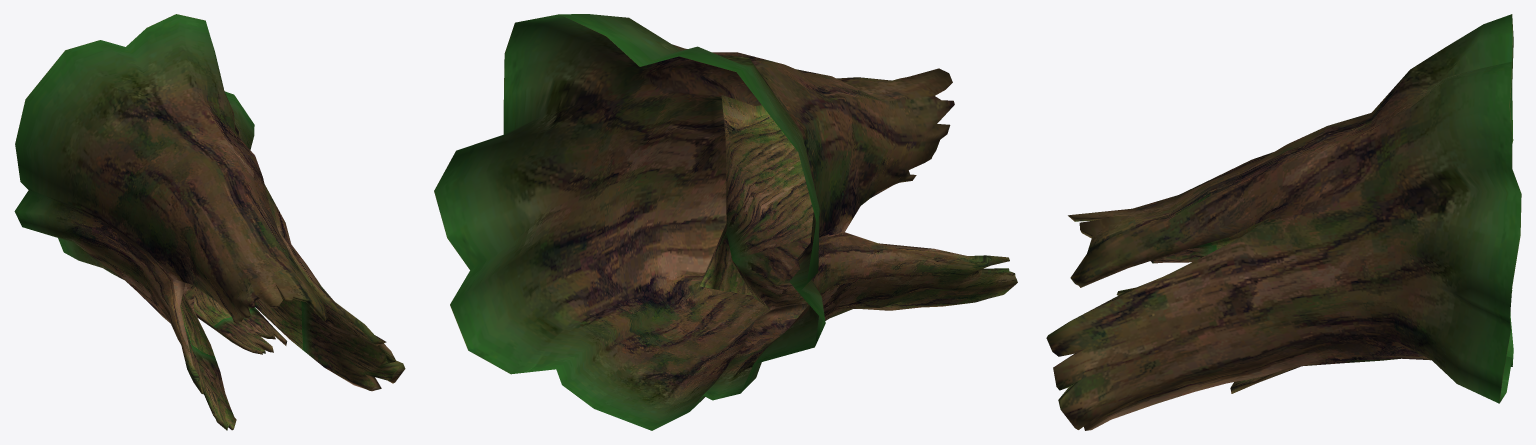
The model's file is Stub01.fbx.
3 renders of one model, left to right at view 1: azimuth 30°, elevation 25°; view 2: azimuth 150°, elevation 25°; view 3: azimuth 270°, elevation 25°, orthographic. The views are drawn at different scales.
Parts seen in each view (by area): view 1: sdgimtree01_obj; view 2: sdgimtree01_obj; view 3: sdgimtree01_obj.
Boxes of the visible parts, x1,y1,x2,y2 form: sdgimtree01_obj: [14, 14, 405, 430]; sdgimtree01_obj: [434, 14, 1017, 430]; sdgimtree01_obj: [1046, 14, 1521, 430].
Bounding box in the file's own units: 1.92 × 2.05 × 2.55.
